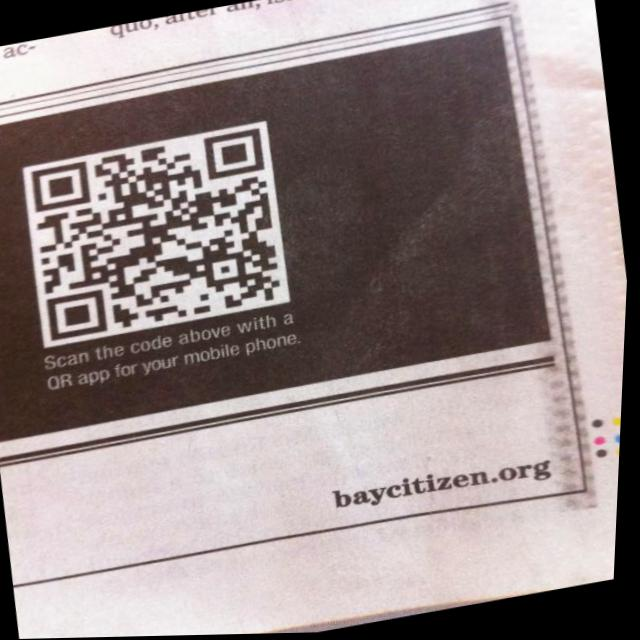qrcode: (27, 130, 291, 342)
